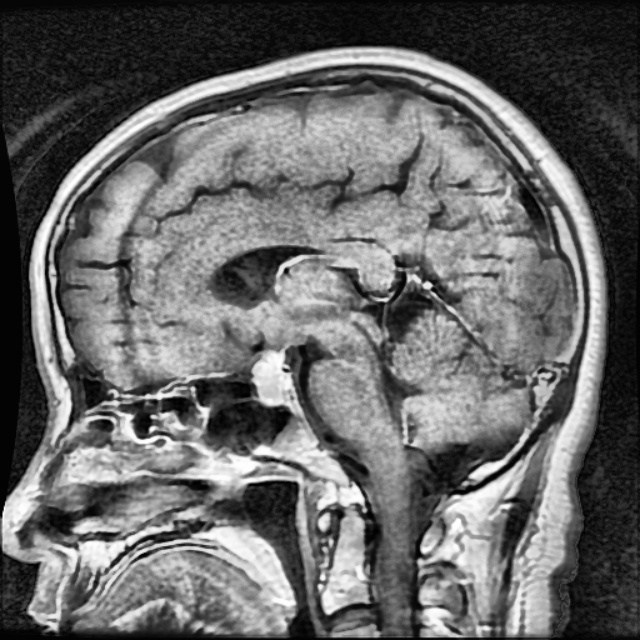Pituitary: (252, 354, 293, 405)
